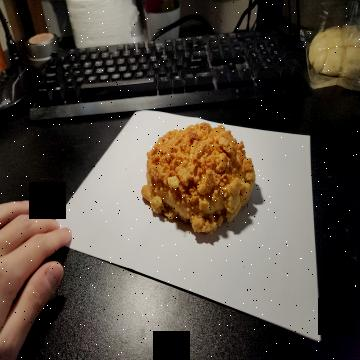soboru_bread: (139, 124, 258, 237)
